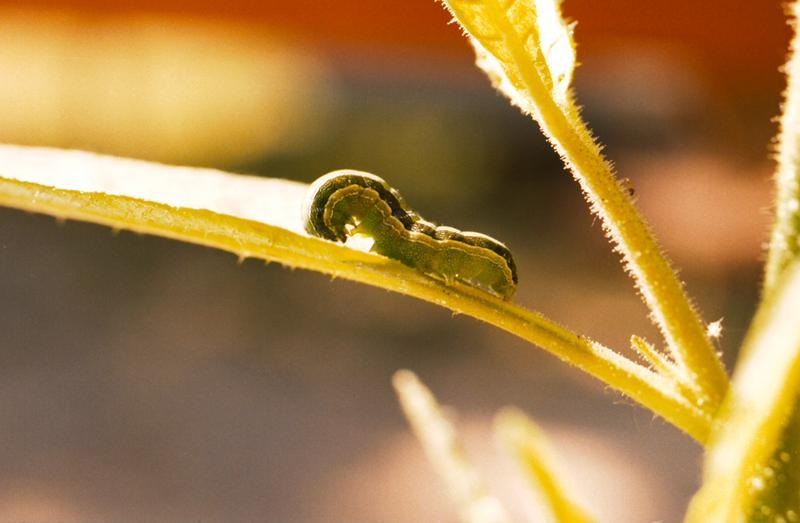Armyworm: (279, 155, 535, 296)
